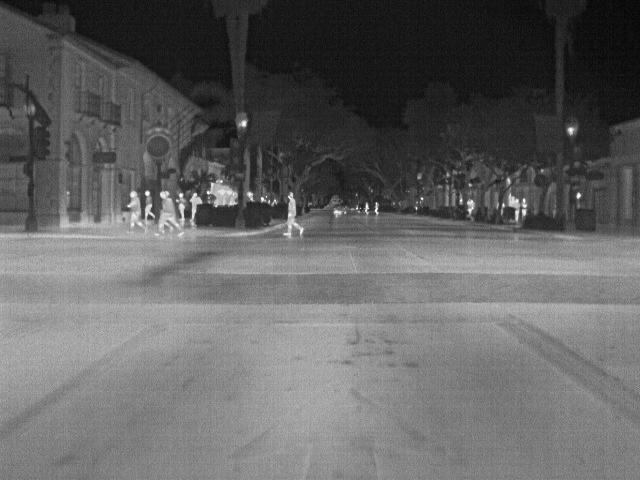car: (334, 204, 350, 216)
person: (280, 190, 308, 239), (157, 190, 178, 238), (127, 190, 141, 234), (145, 190, 154, 222), (178, 190, 187, 222), (190, 190, 204, 207), (520, 196, 527, 216), (513, 199, 520, 218), (469, 197, 476, 214), (373, 200, 381, 214), (363, 202, 371, 214)
